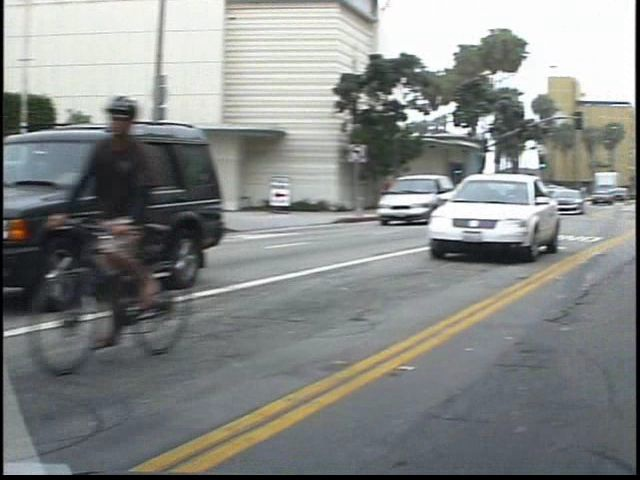person: (89, 91, 208, 350), (399, 172, 418, 211)
